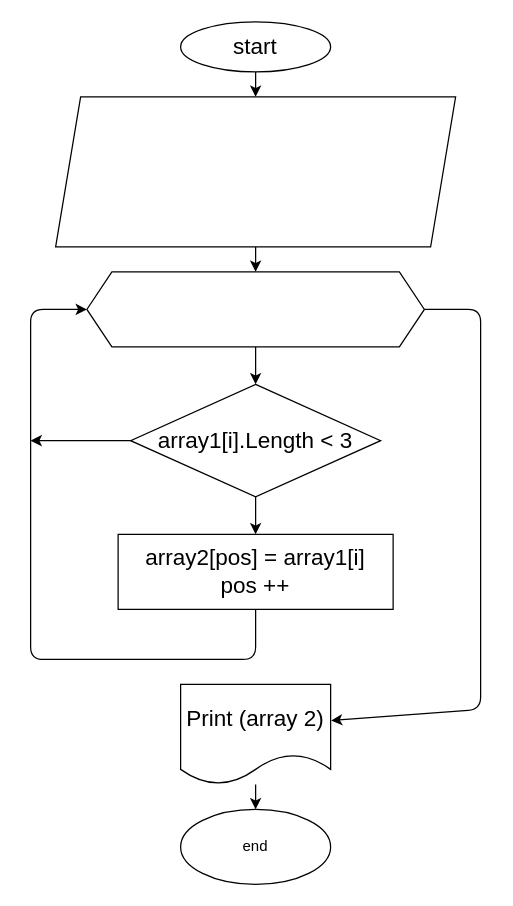
The diagram is 513 pixels wide and 906 high, and some of its shapes have lost their labels. Here are the shapes that lost their labels. From the top down, the centre of each, then its label:
the point at 255,171: array1 array2 array1.Length = array2.Length i = 0 pos = 0
the point at 255,309: i = 0; I < array1.Length; i++
